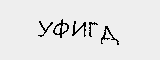Г: (88, 21, 100, 37)
Д: (99, 24, 122, 44)
И: (71, 20, 88, 39)
У: (36, 20, 54, 39)
Ф: (53, 17, 71, 39)
